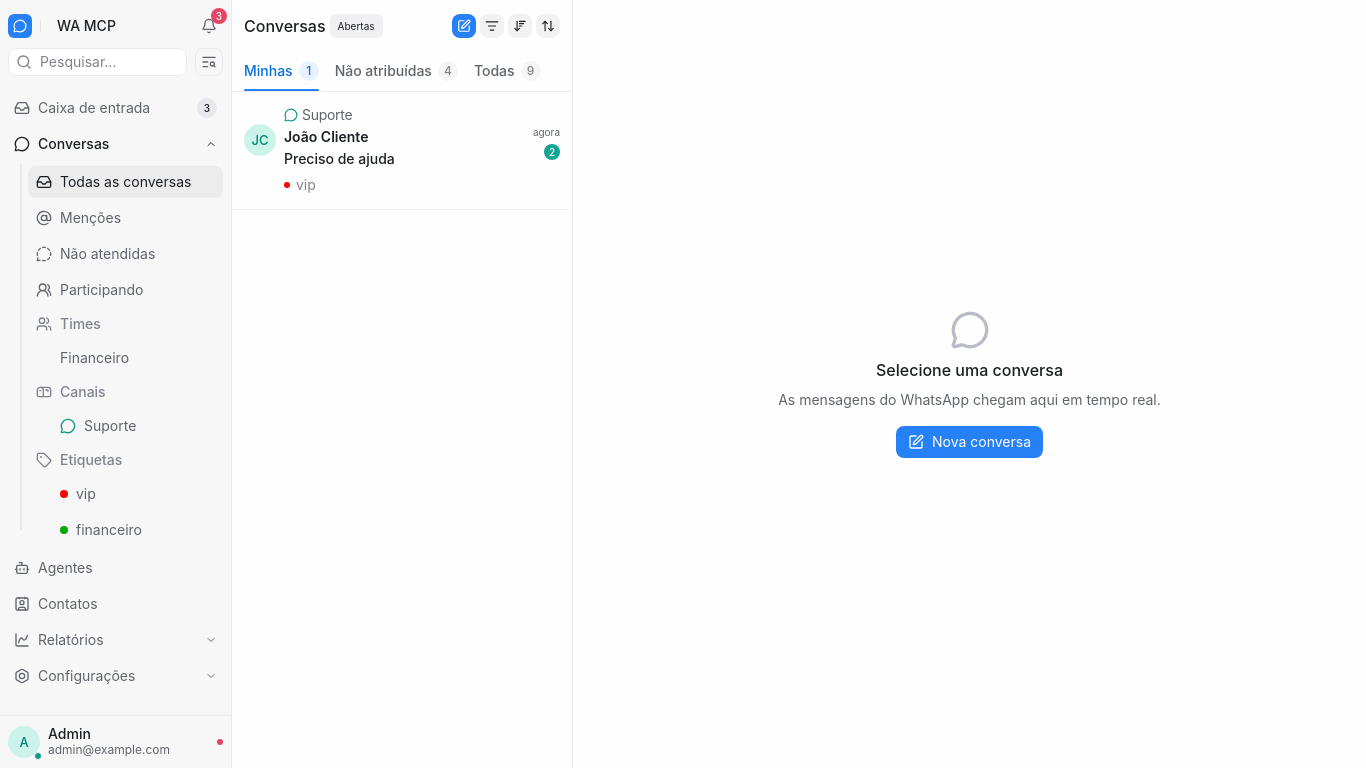
audit log › lists entries in pt-BR with pagination from the settings sidebar
The width and height of the screenshot is (1366, 768).
Check: the heading "Conversas" is shown, box [244,14,326,38]
Click the button "Configurações": (116, 676) [8,660,223,692]
(page scrolled)
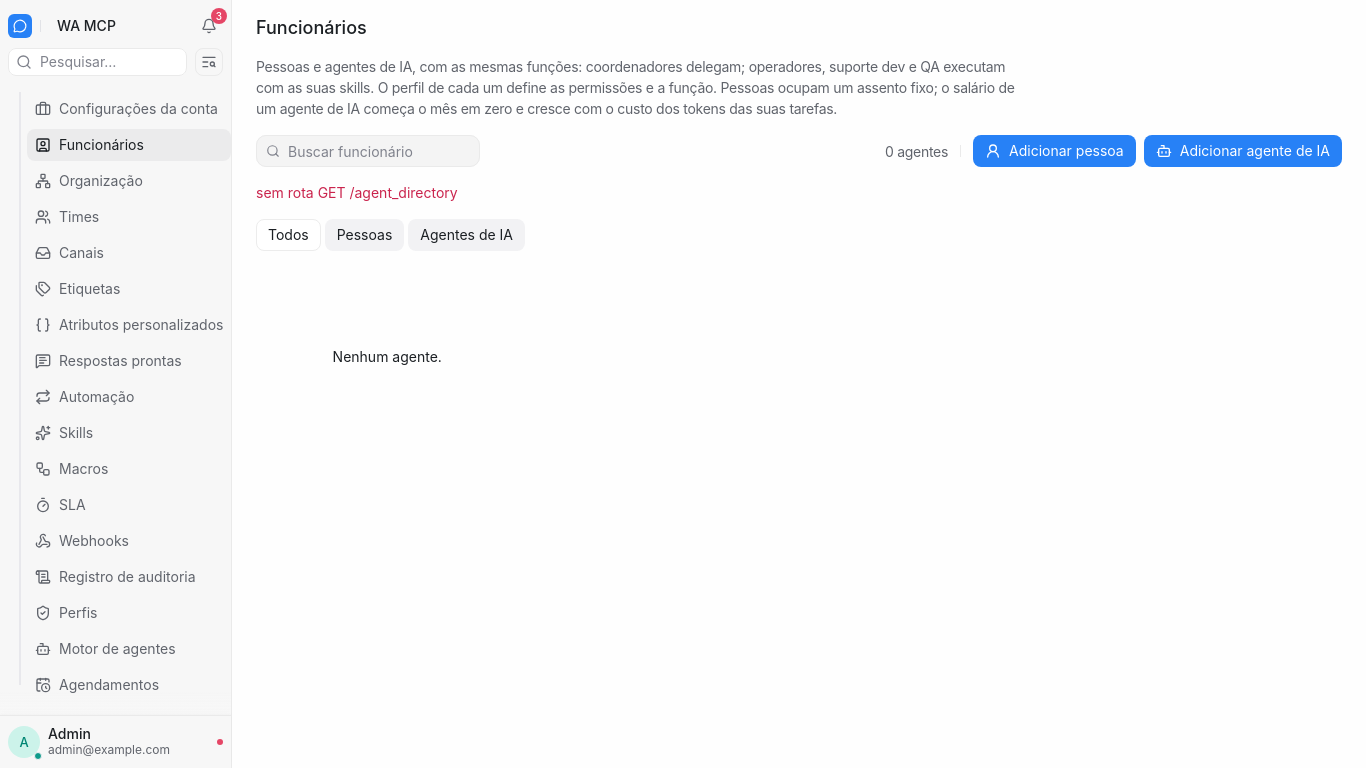
Click the button "Registro de auditoria": (129, 577) [27,561,231,593]
(page scrolled)
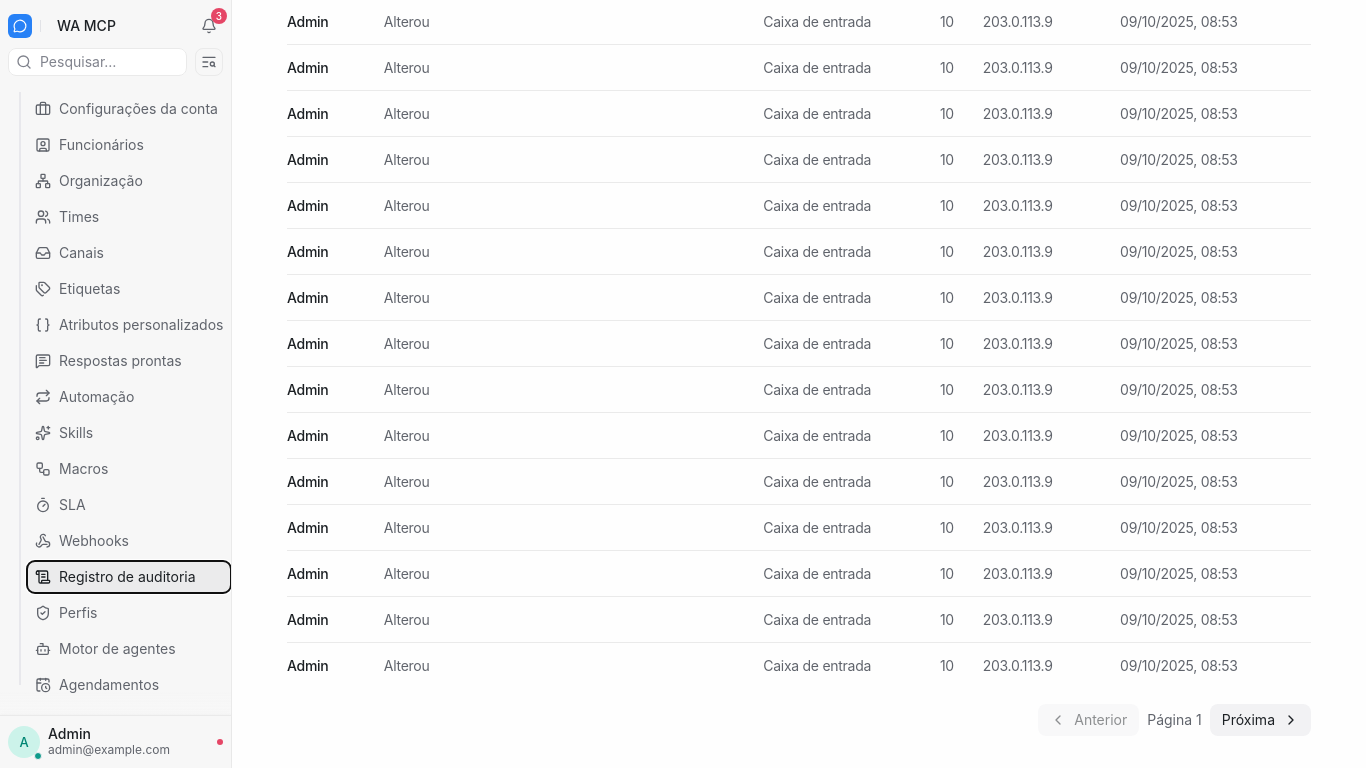
Check: the button "Anterior" is disabled, box [1038,704,1139,736]
Click the button "Próxima": (1260, 720) [1210,704,1311,736]
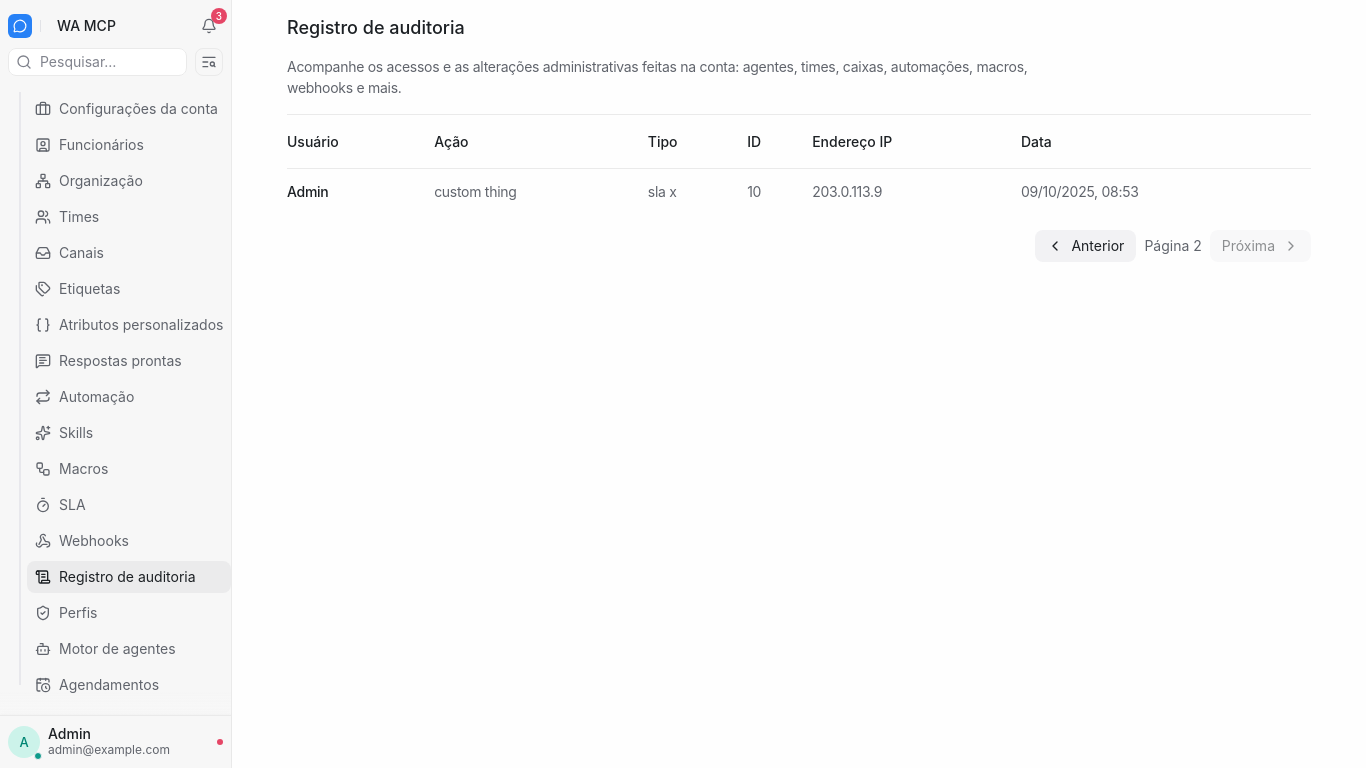
Check: the text "custom thing" is shown, box [434,183,517,200]
Check: the text "sla x" is shown, box [648,168,747,214]
Check: the text "Página 2" is shown, box [1144,236,1202,256]
Click the button "Anterior": (1086, 246) [1035,230,1136,262]
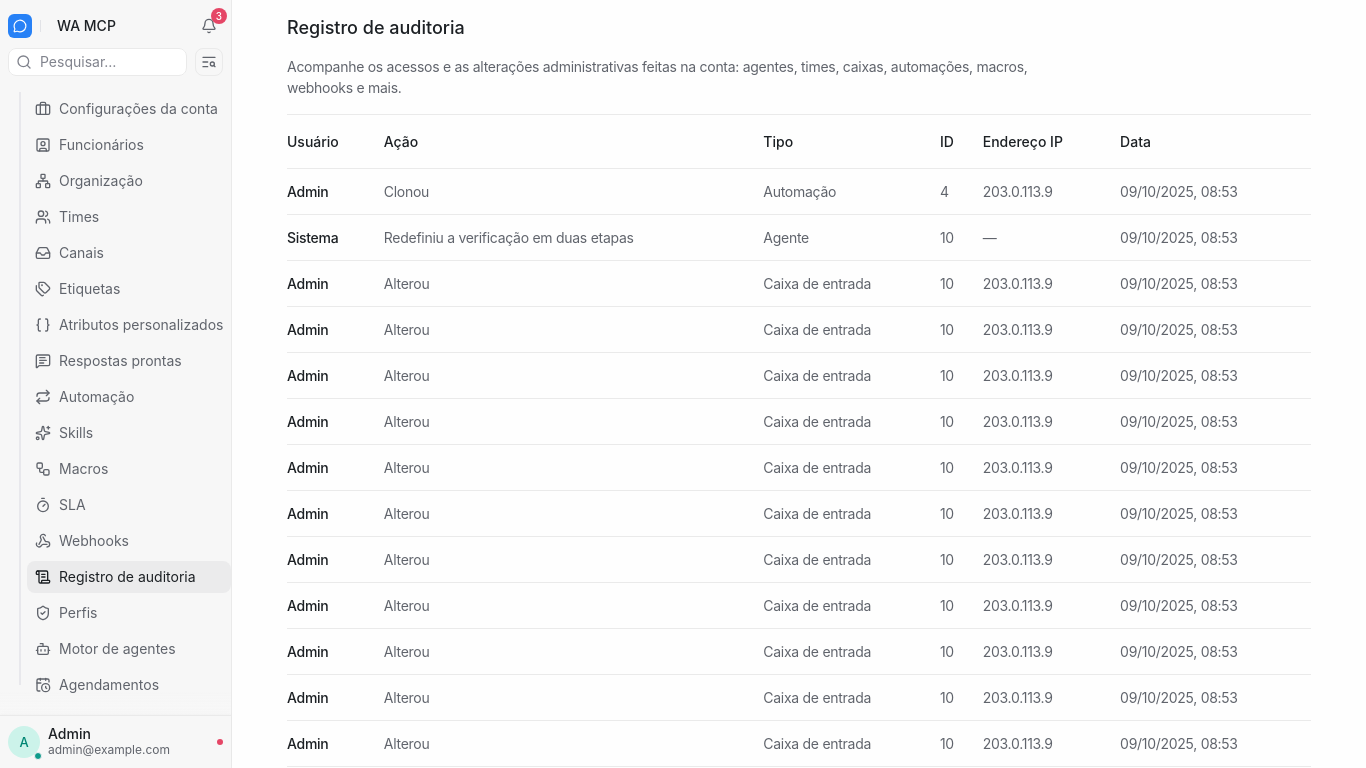
Check: the text "Clonou" is shown, box [384,183,429,200]
